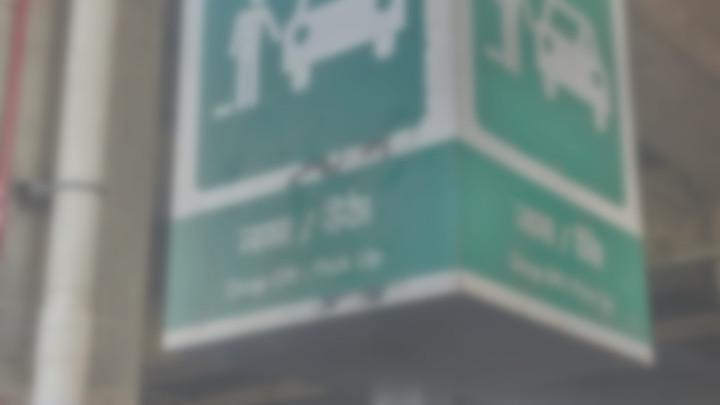Metro Dorp Up Pick up: (155, 0, 662, 382)
